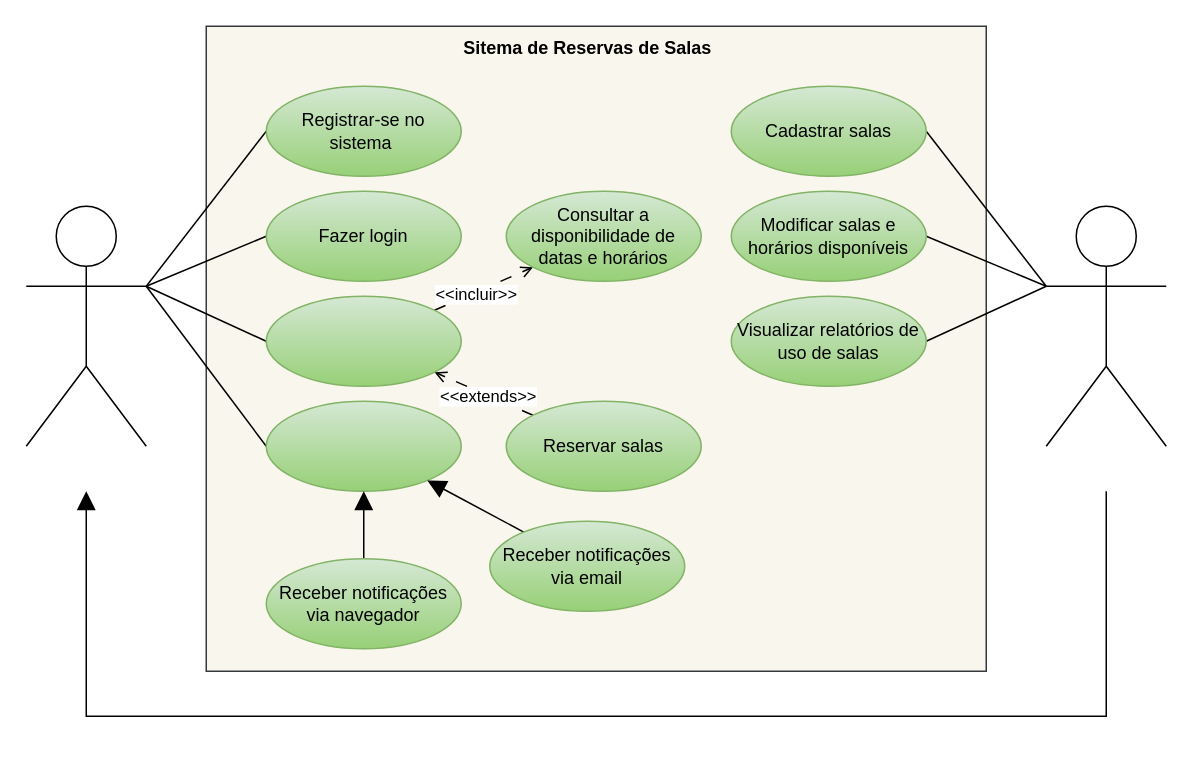
This 1193x761 diagram has some shape labels left out. Each missing label, with the box of its shape:
Adiministrador: (1045, 205, 1166, 446)
Cliente: (25, 205, 146, 446)
Receber notificações: (265, 400, 461, 491)
Visualizar o calendário de disponibilidade: (265, 295, 461, 386)
